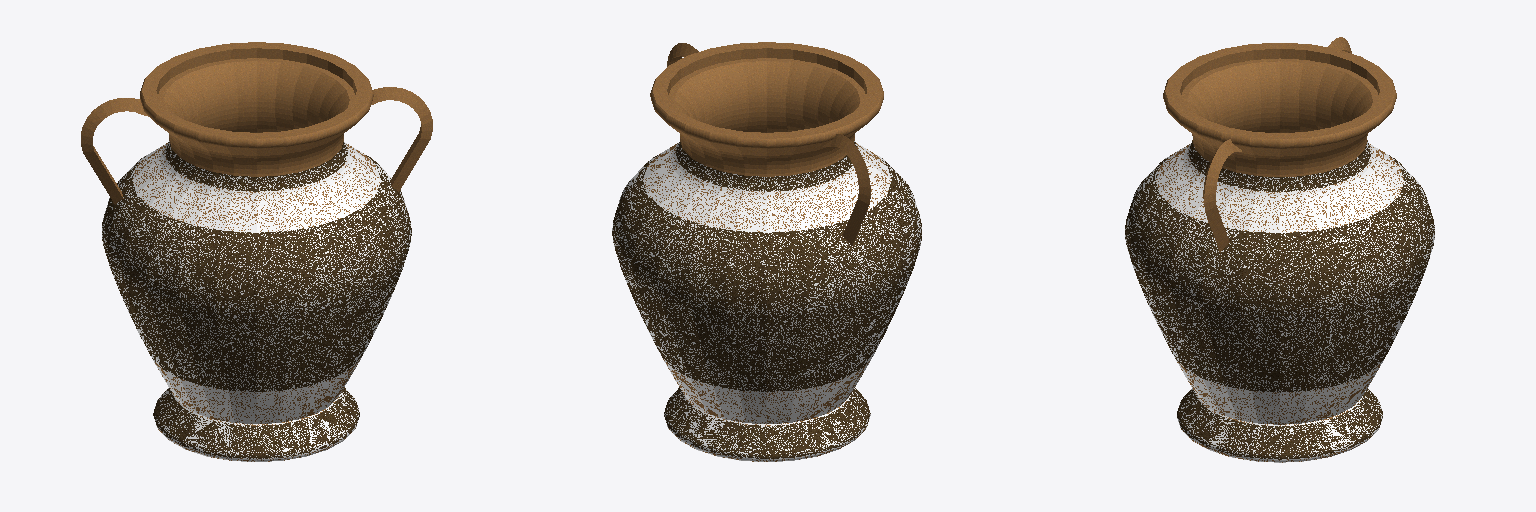
3 views of the same model, side by side, from view 1: azimuth 30°, elevation 25°; view 2: azimuth 150°, elevation 25°; view 3: azimuth 270°, elevation 25° (orthographic).
Parts seen in each view (by area): view 1: mesh1_mesh1-geometry, mesh6_mesh6-geometry, mesh3_mesh3-geometry; view 2: mesh1_mesh1-geometry, mesh6_mesh6-geometry; view 3: mesh1_mesh1-geometry, mesh3_mesh3-geometry.
Boxes of the visible parts, <box> form: mesh1_mesh1-geometry: <box>102,42,411,461</box>; mesh6_mesh6-geometry: <box>81,98,148,204</box>; mesh3_mesh3-geometry: <box>371,87,432,191</box>; mesh1_mesh1-geometry: <box>612,42,921,461</box>; mesh6_mesh6-geometry: <box>823,134,870,245</box>; mesh1_mesh1-geometry: <box>1125,43,1434,462</box>; mesh3_mesh3-geometry: <box>1203,139,1241,252</box>.
Bounding box in the file's own units: 0.5571 × 0.6327 × 0.5379.
Materials: 5 (2 with a texture image).